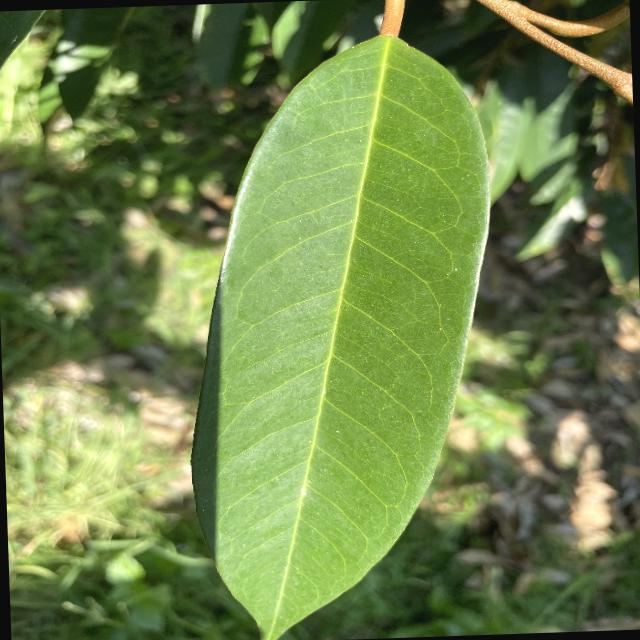No Disease: (169, 20, 516, 639)
